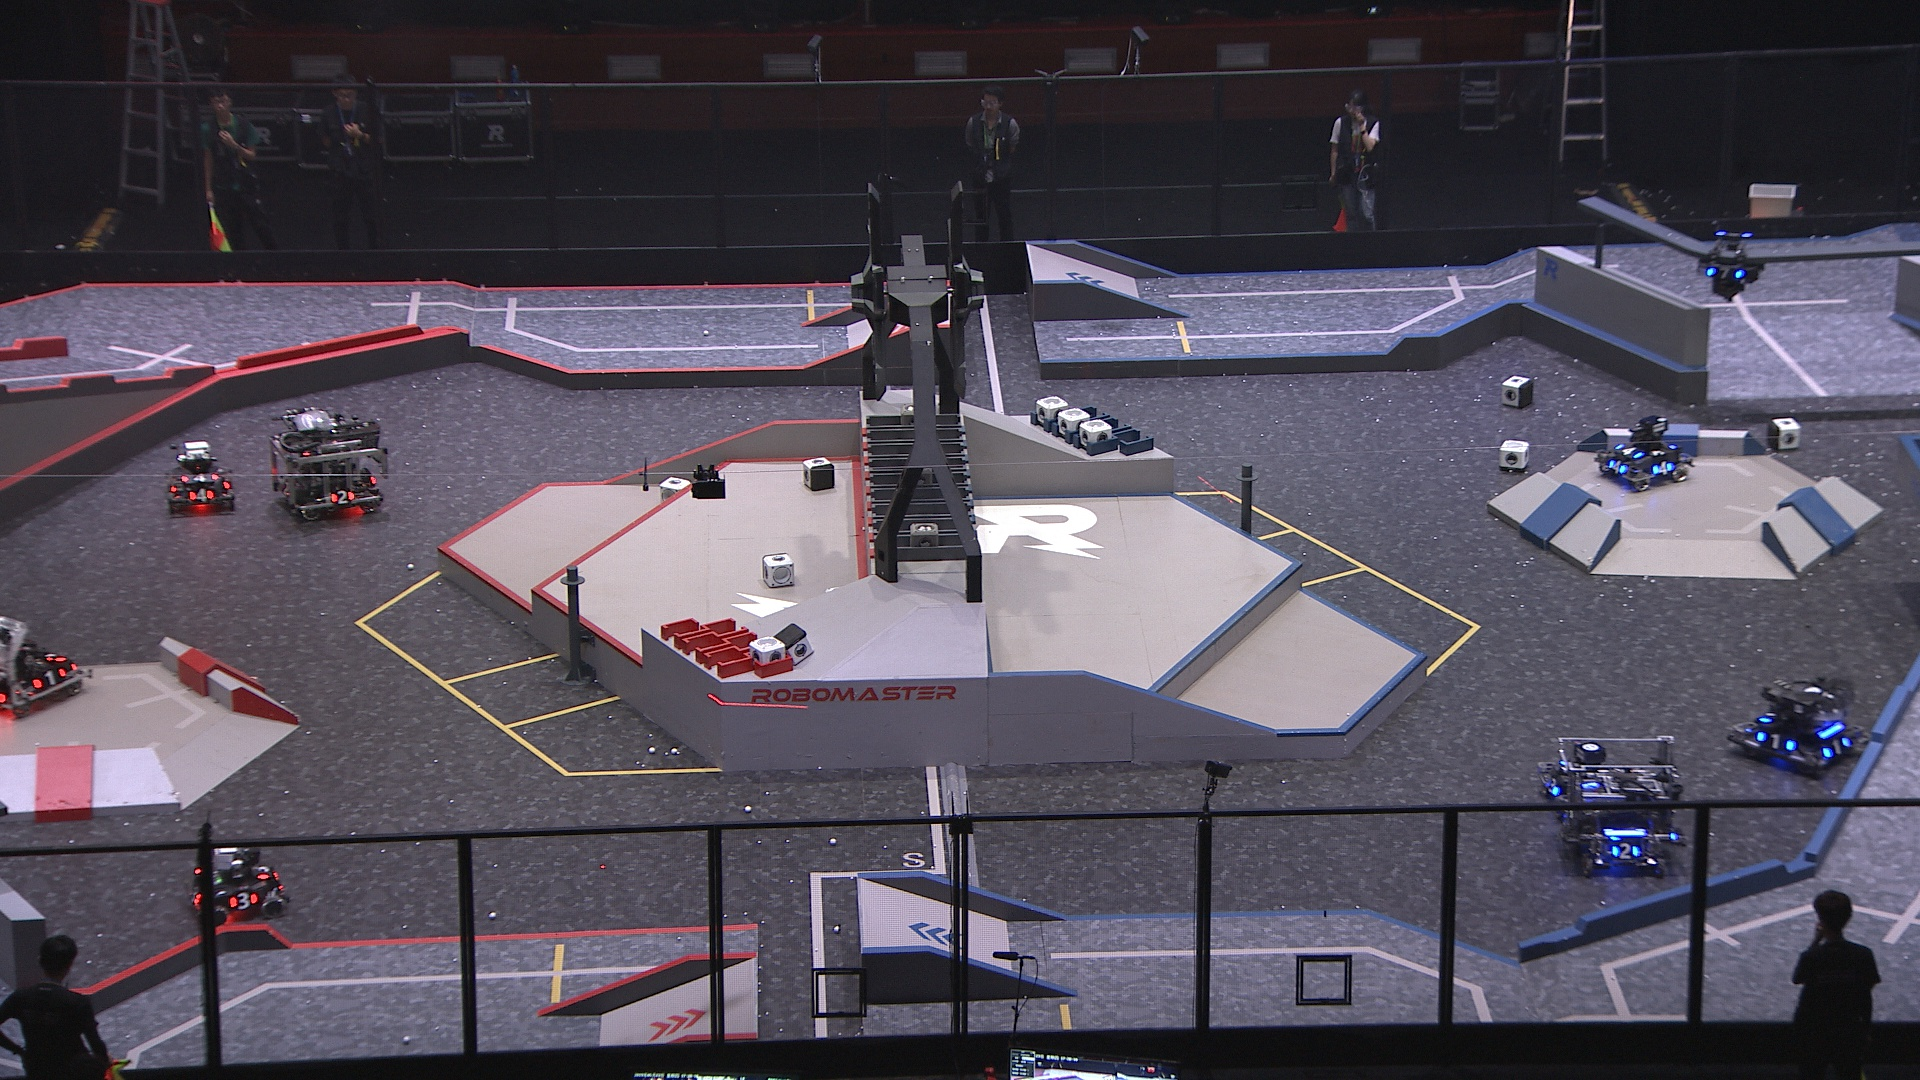armor: (1755, 731, 1797, 752), (1704, 262, 1745, 281), (32, 669, 69, 688), (179, 471, 222, 487), (228, 891, 261, 911), (1825, 737, 1851, 761), (1610, 843, 1640, 862), (251, 861, 276, 884), (1617, 443, 1646, 462), (189, 487, 216, 505), (328, 489, 357, 506), (1652, 462, 1676, 479), (189, 885, 204, 909), (1760, 708, 1780, 727), (1609, 458, 1629, 476), (44, 650, 69, 665), (1545, 777, 1563, 796), (278, 480, 295, 498)
car: (1556, 733, 1689, 878), (1726, 675, 1871, 779), (266, 407, 390, 524), (185, 847, 291, 926), (1592, 415, 1695, 493), (162, 436, 239, 517), (1538, 740, 1623, 807)
watcher: (1695, 228, 1768, 305)
